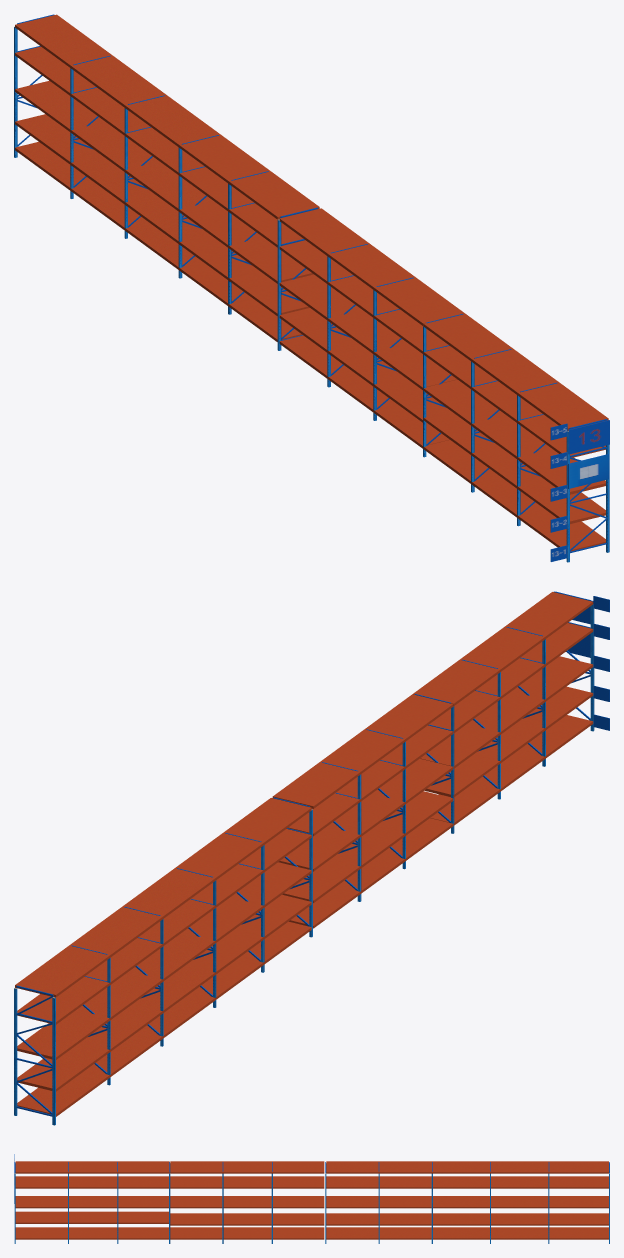
The model's file is Shelf13.FBX.
The picture shows the model from 3 angles, top to bottom: view 1: azimuth 30°, elevation 25°; view 2: azimuth 150°, elevation 25°; view 3: azimuth 270°, elevation 25°; orthographic projection. The views are drawn at different scales.
Visible parts, largest first — view 1: 图形191, 13-5-11, 13-5-10, 13-5-09, 13-5-07, 13-5-08, 13-5-04, 13-5-01, 13-5-06, 13-5-03, 13-5-02, 13-5-05 (+46 smaller); view 2: 图形191, 13-5-11, 13-5-10, 13-5-09, 13-3-11, 13-5-08, 13-5-04, 13-5-07, 13-5-01, 13-5-06, 13-5-03, 13-5-02 (+44 smaller); view 3: 图形191, 13-1-11, 13-5-11, 13-4-11, 13-3-11, 13-2-11, 13-5-10, 13-5-09, 13-1-10, 13-4-10, 13-2-10, 13-3-10 (+44 smaller).
Boxes of the visible parts, left/top/right/bottom form: 图形191: left=14, top=14, right=609, bottom=562; 13-5-11: left=15, top=14, right=112, bottom=67; 13-5-10: left=71, top=55, right=166, bottom=107; 13-5-09: left=125, top=95, right=220, bottom=147; 13-5-07: left=228, top=171, right=319, bottom=219; 13-5-08: left=179, top=135, right=269, bottom=183; 13-5-04: left=374, top=277, right=464, bottom=325; 13-5-01: left=518, top=383, right=608, bottom=430; 13-5-06: left=279, top=208, right=368, bottom=255; 13-5-03: left=423, top=313, right=512, bottom=360; 13-5-02: left=471, top=348, right=559, bottom=395; 13-5-05: left=327, top=243, right=415, bottom=289; 图形191: left=14, top=591, right=594, bottom=1125; 13-5-11: left=15, top=945, right=110, bottom=997; 13-5-10: left=70, top=906, right=163, bottom=957; 13-5-09: left=122, top=868, right=215, bottom=918; 13-3-11: left=17, top=1010, right=110, bottom=1059; 13-5-08: left=175, top=833, right=263, bottom=879; 13-5-04: left=365, top=694, right=453, bottom=741; 13-5-07: left=223, top=798, right=311, bottom=844; 13-5-01: left=505, top=592, right=593, bottom=638; 13-5-06: left=273, top=762, right=360, bottom=808; 13-5-03: left=413, top=660, right=499, bottom=705; 13-5-02: left=459, top=626, right=545, bottom=672; 图形191: left=14, top=1162, right=609, bottom=1243; 13-1-11: left=549, top=1227, right=608, bottom=1239; 13-5-11: left=549, top=1161, right=608, bottom=1173; 13-4-11: left=549, top=1176, right=608, bottom=1188; 13-3-11: left=549, top=1196, right=608, bottom=1208; 13-2-11: left=549, top=1213, right=608, bottom=1225; 13-5-10: left=490, top=1161, right=548, bottom=1173; 13-5-09: left=432, top=1161, right=490, bottom=1173; 13-1-10: left=491, top=1227, right=548, bottom=1239; 13-4-10: left=491, top=1176, right=548, bottom=1188; 13-2-10: left=491, top=1213, right=548, bottom=1225; 13-3-10: left=491, top=1196, right=548, bottom=1208.
Bounding box in the file's own units: 1.13 × 18.56 × 2.56.
